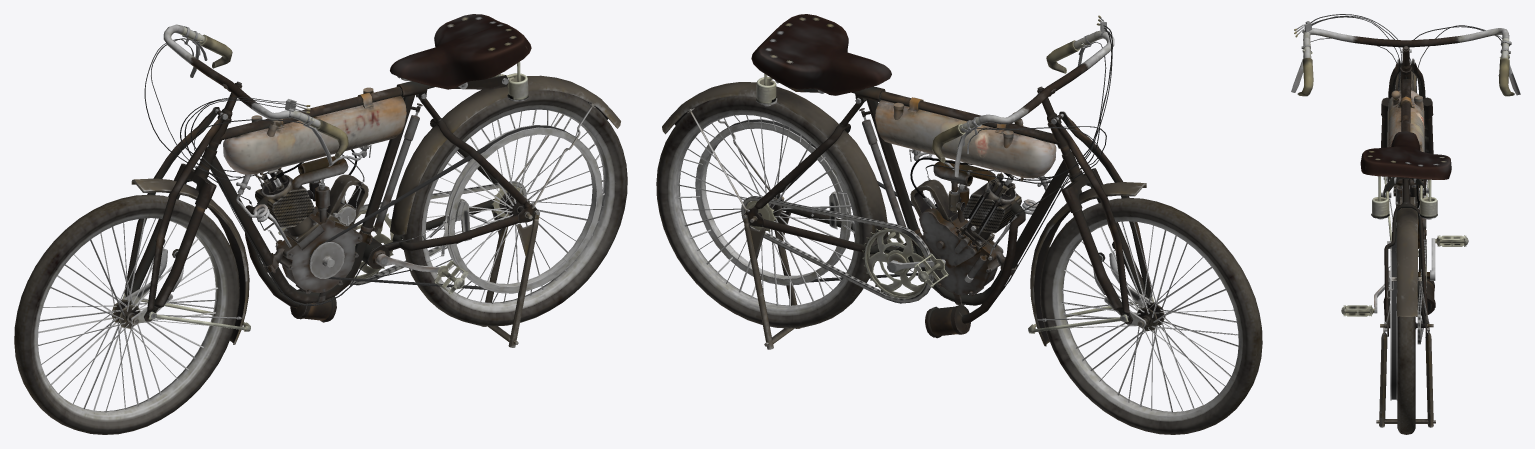
File: s-i-a-m-t--1910-corsa-262cc-1-cyl-ohv-29-96da8f.glb
The picture shows the model from 3 angles, left to right: view 1: azimuth 30°, elevation 25°; view 2: azimuth 150°, elevation 25°; view 3: azimuth 270°, elevation 25°; orthographic projection. The views are drawn at different scales.
Parts seen in each view (by area): view 1: PropMesh; view 2: PropMesh; view 3: PropMesh.
Boxes of the visible parts, left/top/right/bottom form: PropMesh: left=14, top=14, right=627, bottom=434; PropMesh: left=656, top=14, right=1262, bottom=434; PropMesh: left=1291, top=14, right=1520, bottom=434.
Size of the model in its own units: 4.05 by 2.2 by 1.55.
Materials: 1 (1 with a texture image).
